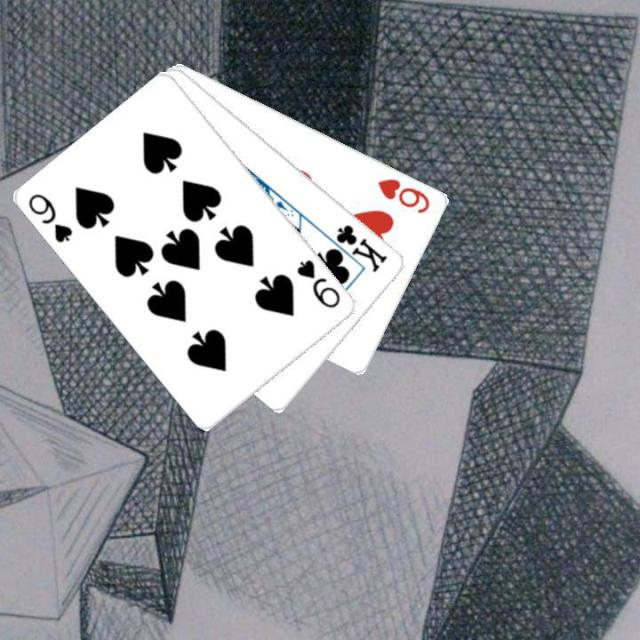6H: (374, 174, 432, 215)
9S: (293, 255, 343, 310), (25, 190, 75, 244)
KC: (321, 220, 389, 274)
